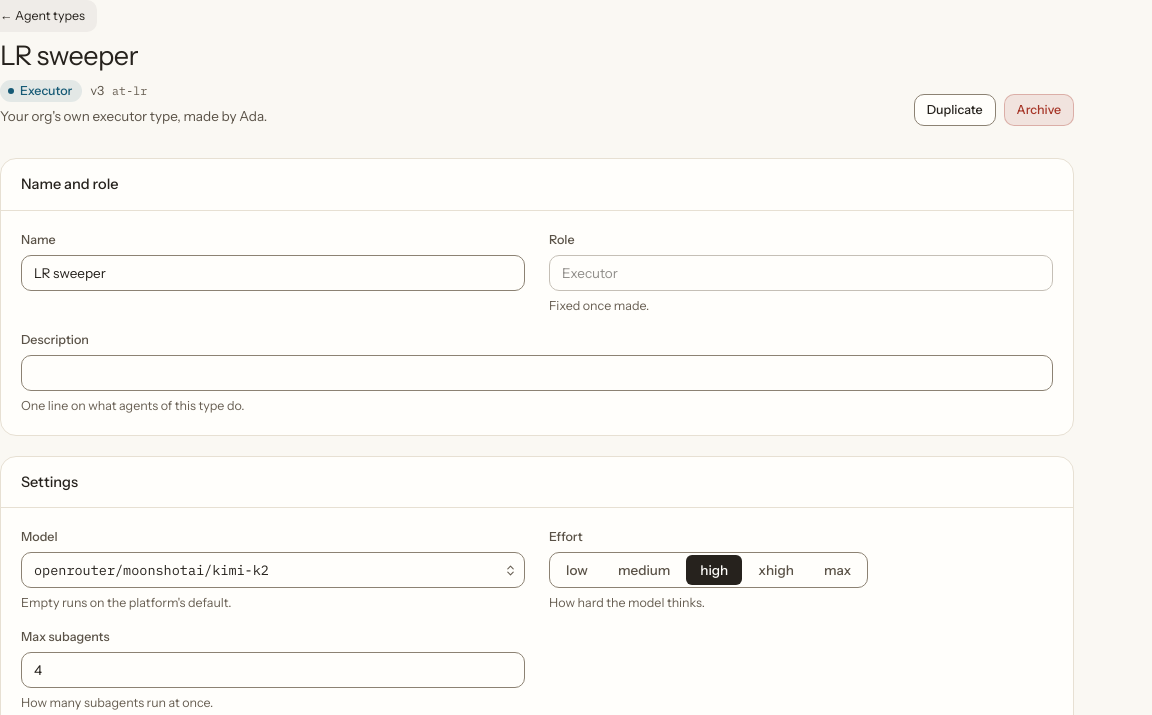
Test: editing an org's agent type › renames without asking, since a name makes no version
The width and height of the screenshot is (1152, 715).
Replace the text in the field labelled "Name" with "LR" at (273, 273), box [21, 255, 525, 291]
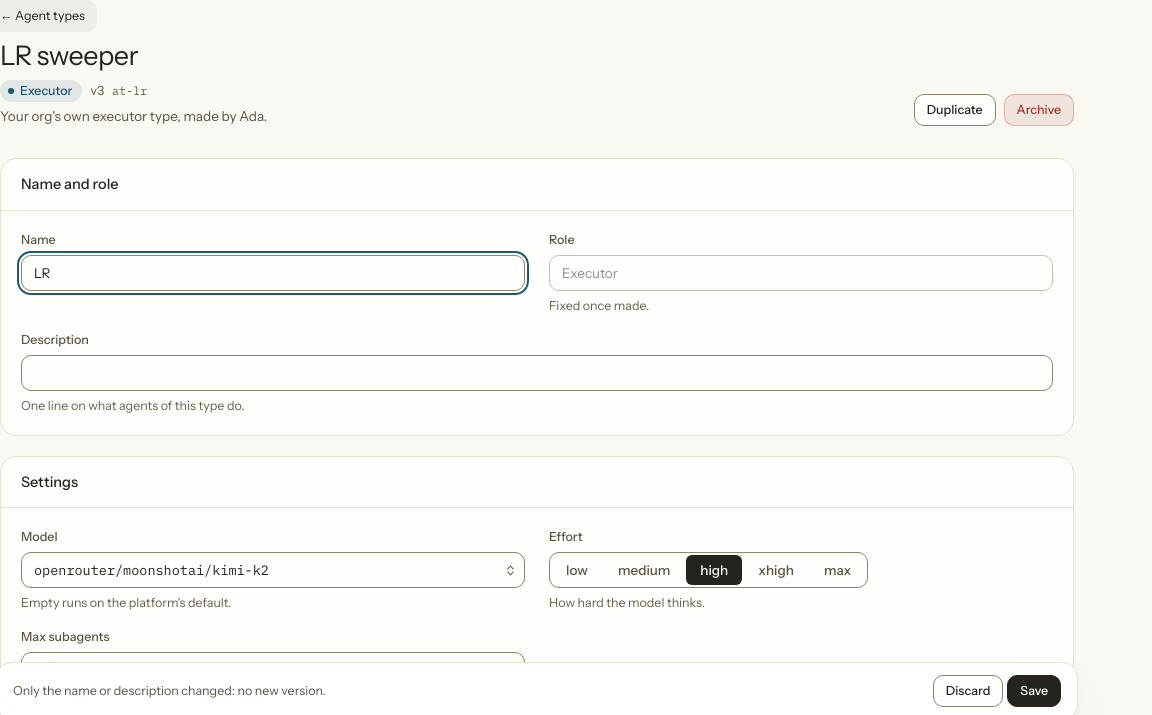
Expected: the text "Only the name or description changed: no new version." is shown, [13, 682, 326, 700]
Click the button "Save" at (1034, 691), box [1007, 675, 1061, 707]
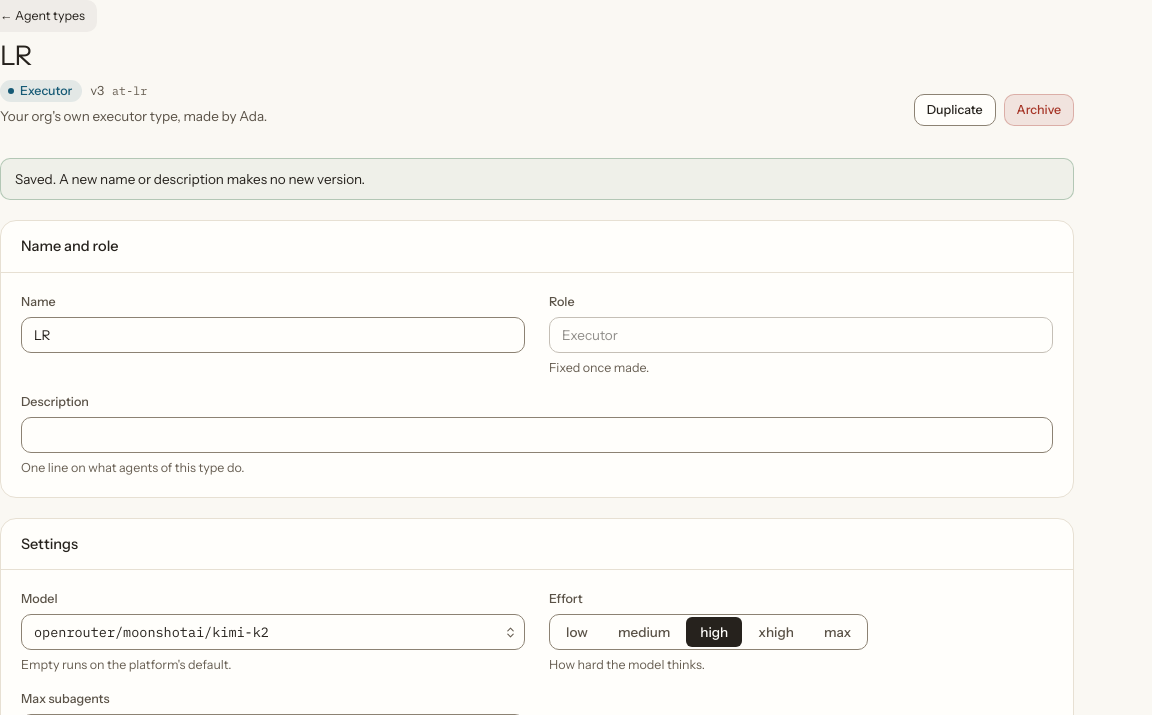
Expected: the text "Saved. A new name or description makes no new version." is shown, [0, 158, 1074, 200]
